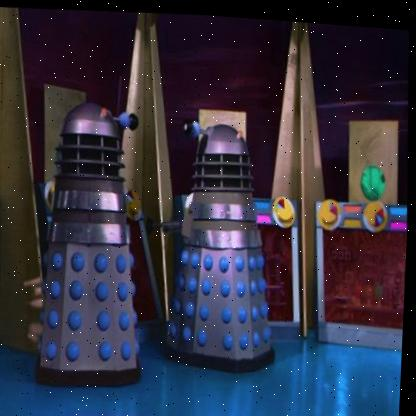dalek: (13, 81, 168, 399), (138, 90, 297, 398)
